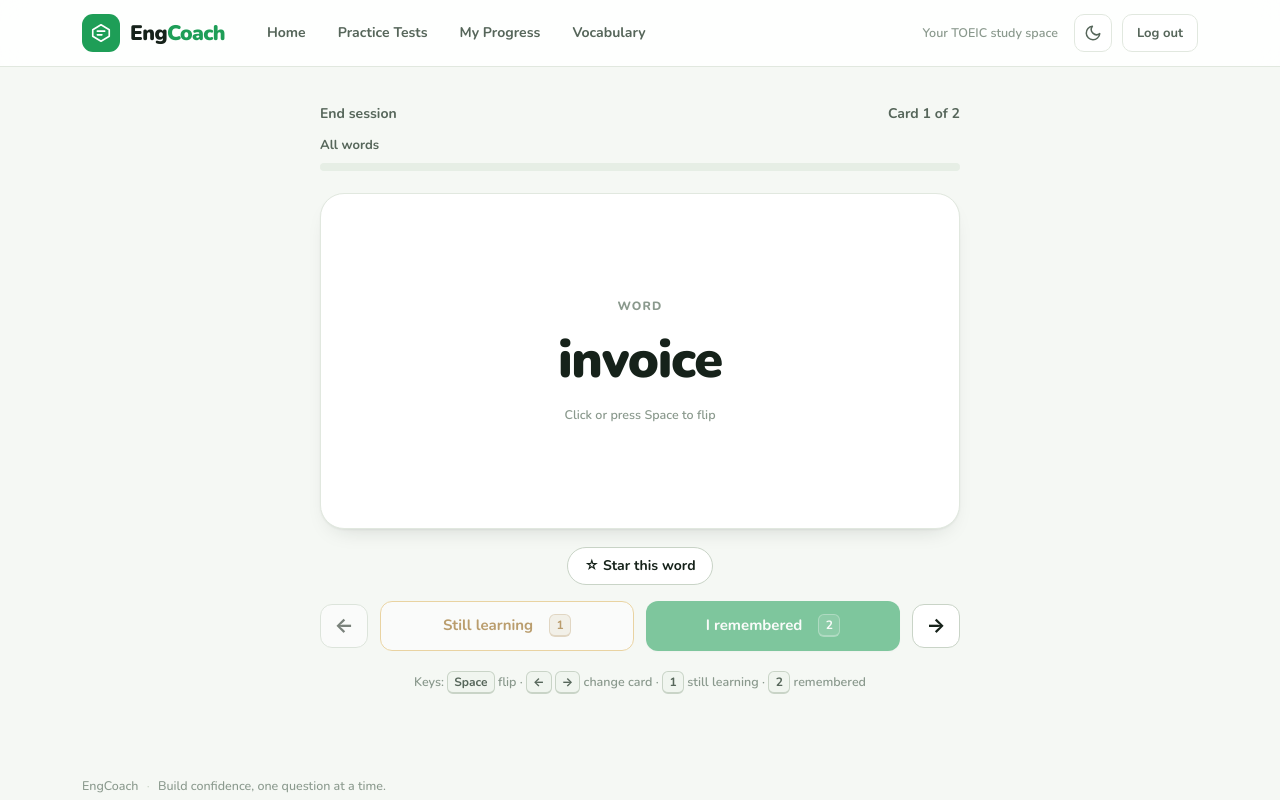
Flashcards page › shows one card at a time, reveals the meaning, records each answer and ends with a summary
Expected: the text "Card 1 of 2" is shown, [888, 103, 960, 125]
Expected: the text "invoice" is shown, [558, 330, 722, 389]
Step 1. Click the button with aria-label "Show meaning" → [640, 361], box [320, 193, 960, 529]
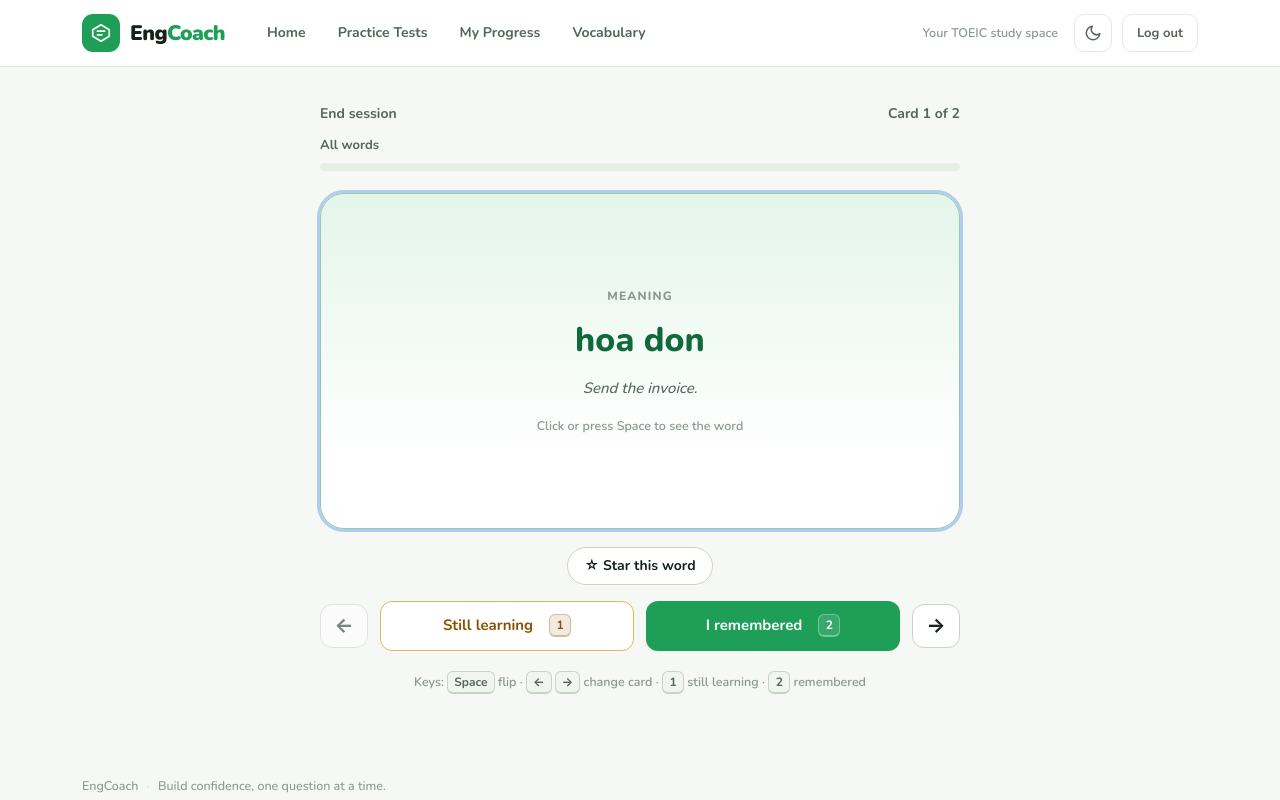
Expected: the text "hoa don" is shown, [575, 319, 705, 362]
Expected: the text "Send the invoice." is shown, [583, 376, 697, 400]
Step 2. Click the button "I remembered 2" → [773, 626], box [646, 600, 900, 650]
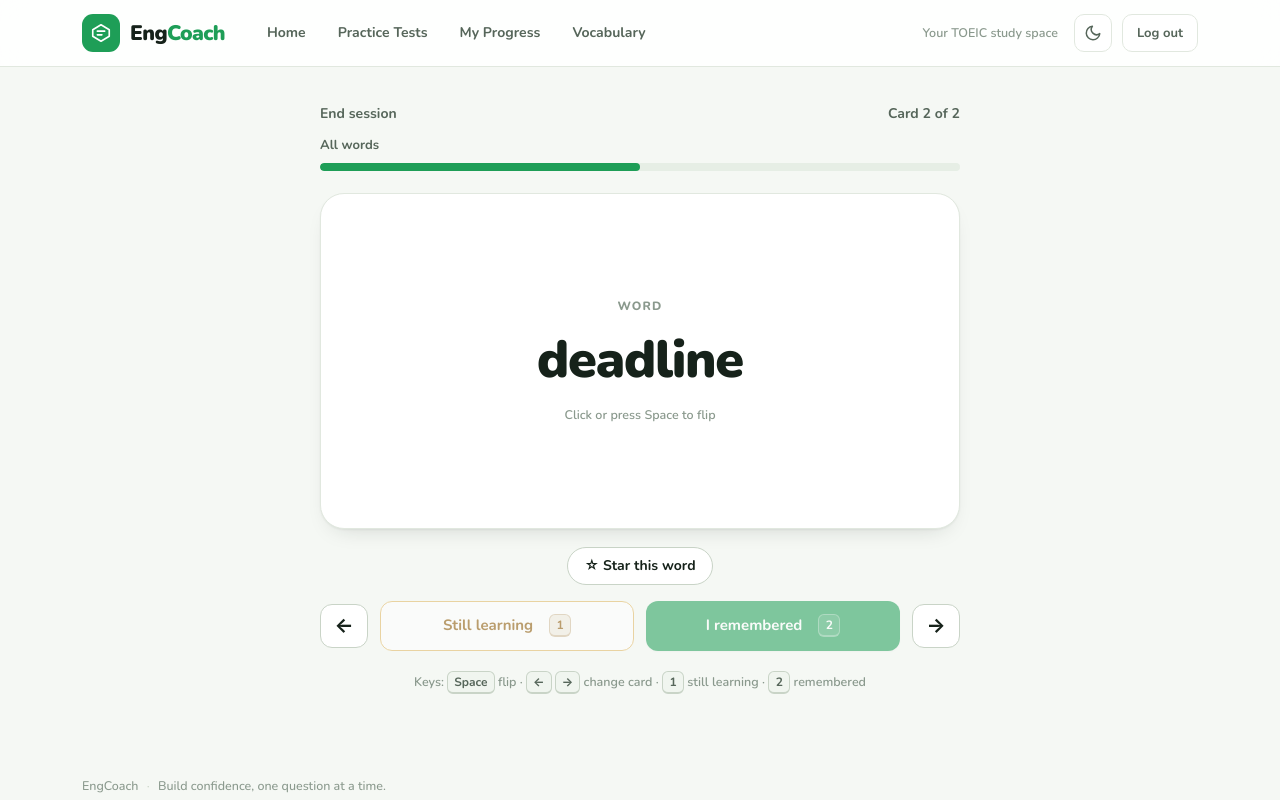
Expected: the text "han chot" is not shown
Expected: the text "Card 2 of 2" is shown, [888, 103, 960, 125]
Step 3. Click the button with aria-label "Show meaning" → [640, 361], box [320, 193, 960, 529]
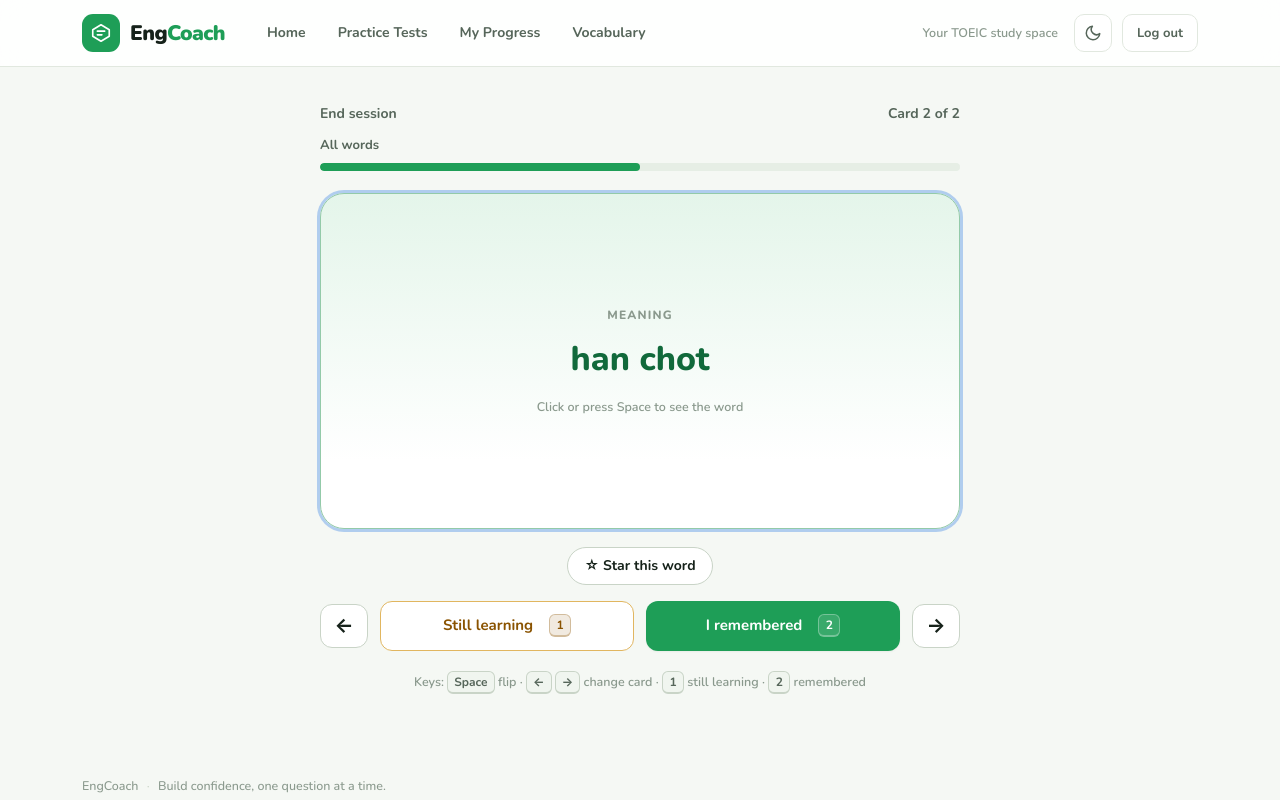
Step 4. Click the button "Still learning 1" → [507, 626], box [380, 600, 634, 650]
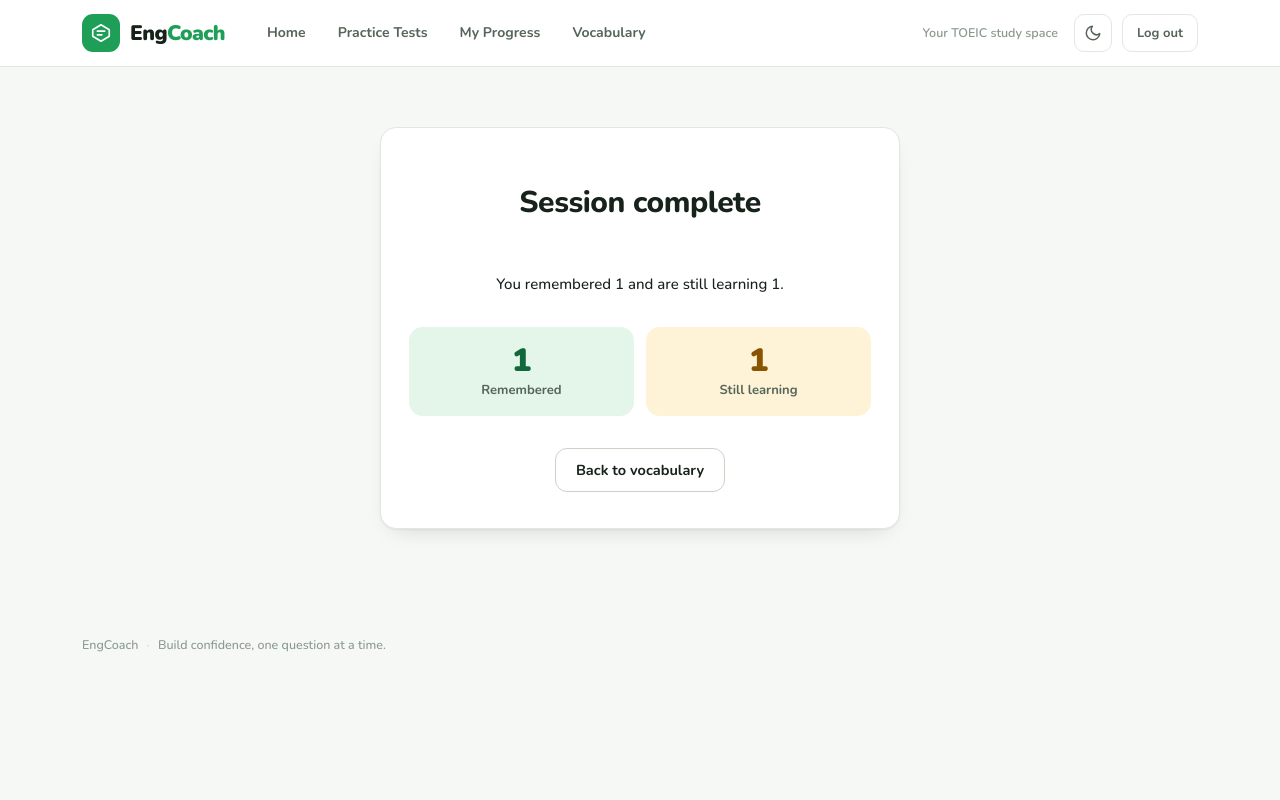
Expected: the heading "Session complete" is shown, [519, 184, 761, 222]
Expected: the text "You remembered 1 and are still learning 1." is shown, [496, 273, 784, 296]
